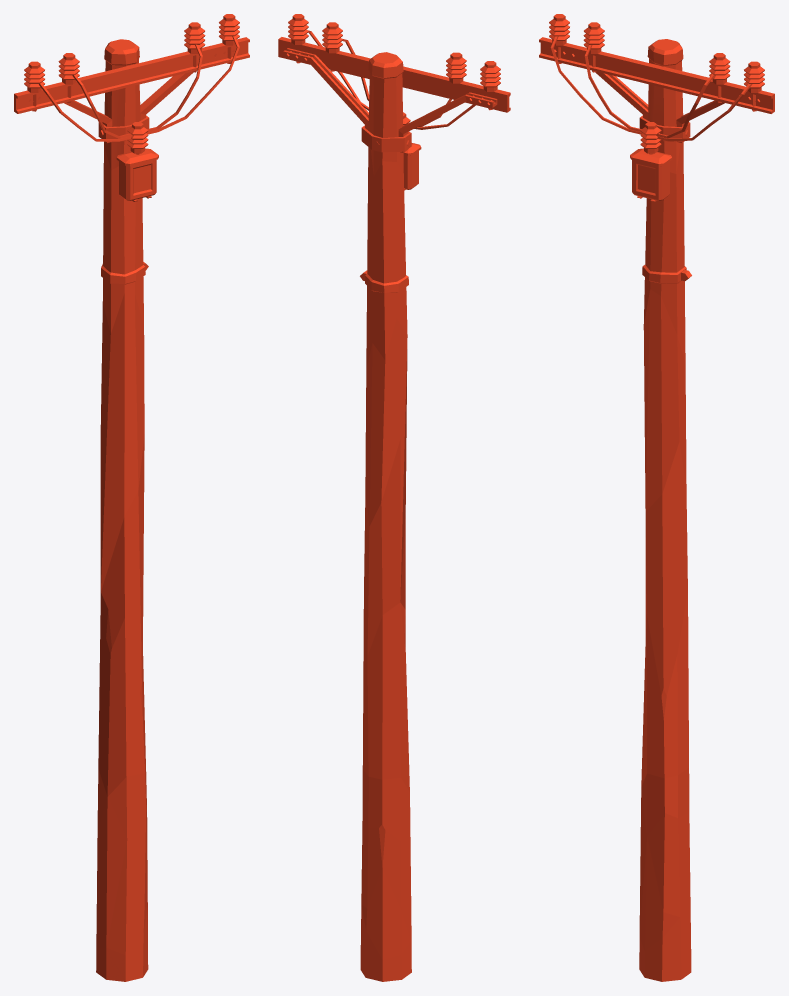
File: SM_Pole_Electric_Double_B_City.fbx
3 views of the same model, side by side, from view 1: azimuth 30°, elevation 25°; view 2: azimuth 150°, elevation 25°; view 3: azimuth 330°, elevation 25° (orthographic).
Visible parts, largest first — view 1: SM_Pole_Electric_Double_B_City; view 2: SM_Pole_Electric_Double_B_City; view 3: SM_Pole_Electric_Double_B_City.
Part boxes in pixels (<box>): SM_Pole_Electric_Double_B_City: <box>14,14,249,981</box>; SM_Pole_Electric_Double_B_City: <box>278,14,510,981</box>; SM_Pole_Electric_Double_B_City: <box>539,14,774,981</box>.
Size of the model in its own units: 1.78 by 6.88 by 0.466.
